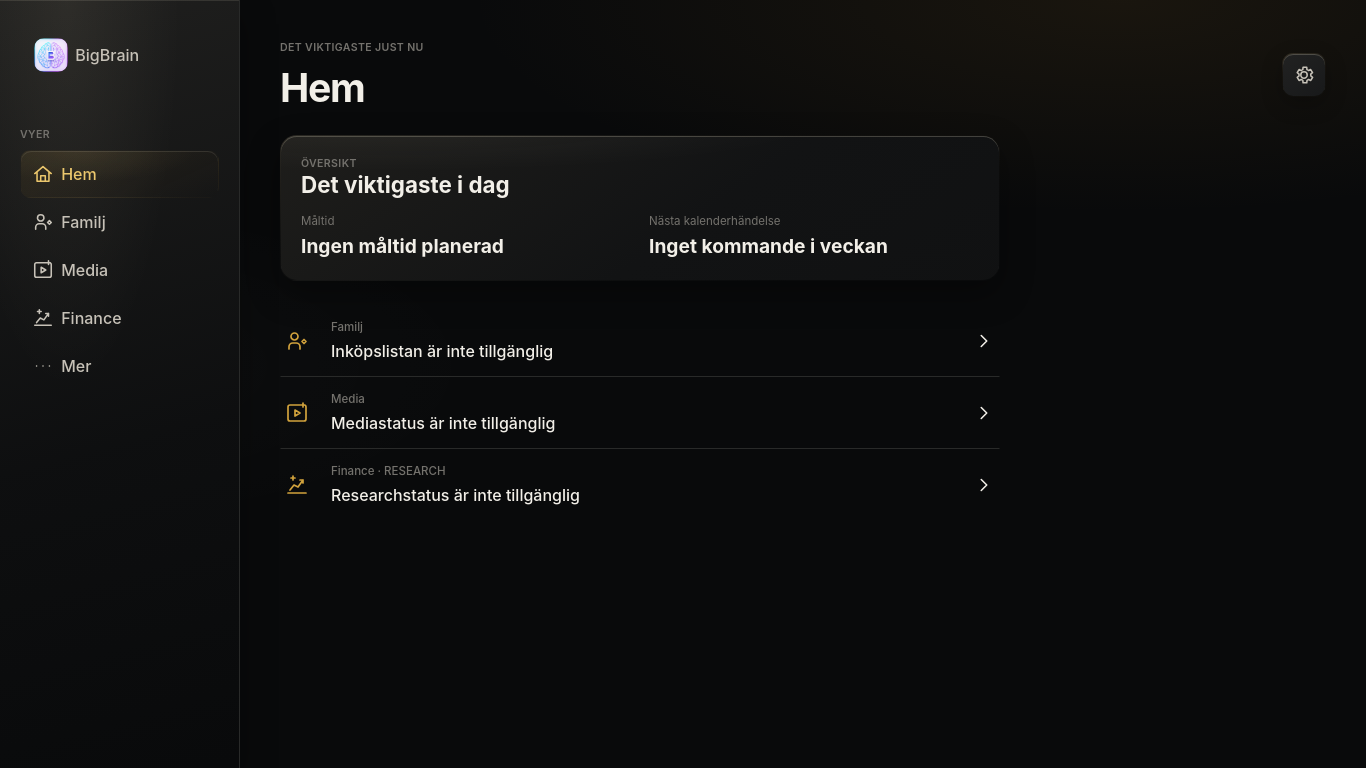
starts on the calm Home launcher and keeps family tools in Family
expect the heading "Hem" is shown: met, box [280, 64, 364, 111]
Click the button "Familj".
click(120, 222)  # box [20, 198, 219, 246]
(page scrolled)
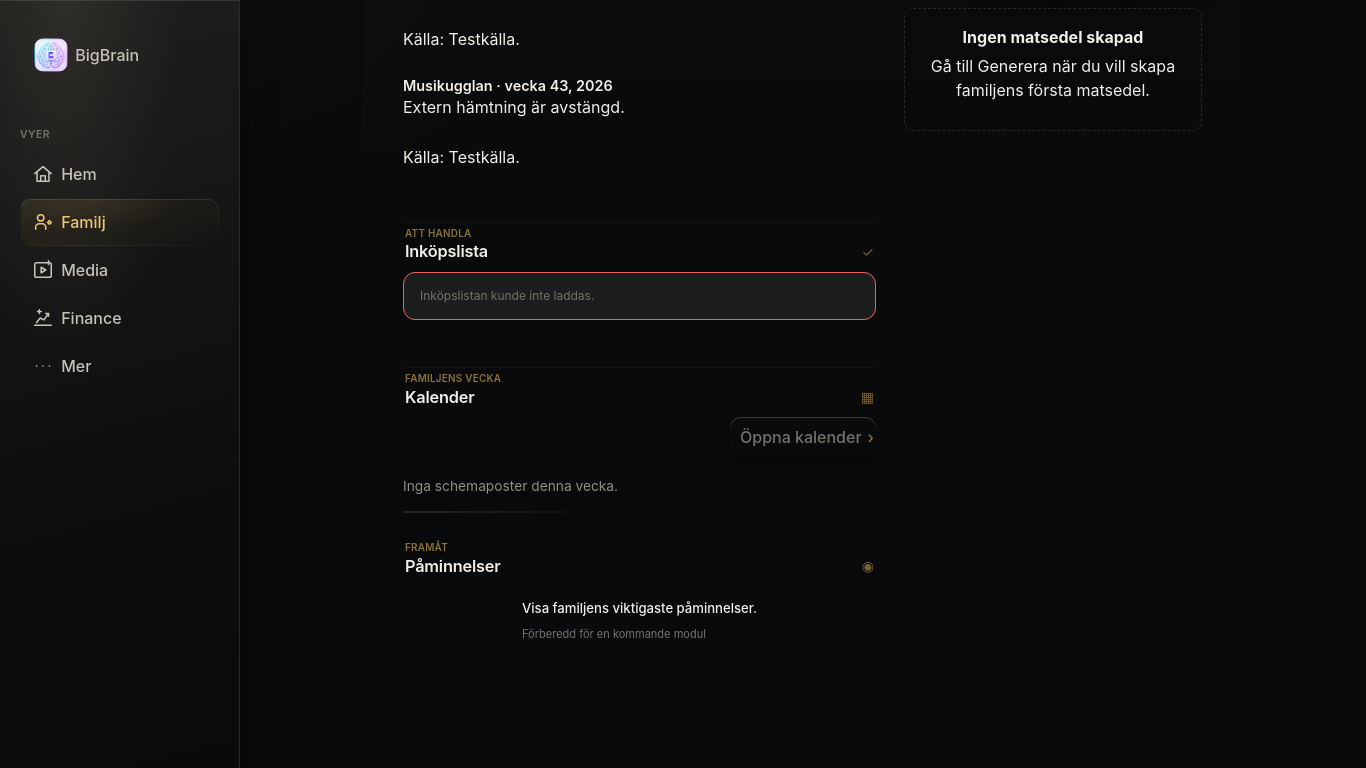
expect the element showing "Att handla Inköpslista ✓ Inköpslistan kunde inte laddas." is shown: met, box [403, 222, 876, 340]
expect the button "Öppna kalender" is shown: met, box [730, 417, 876, 457]
